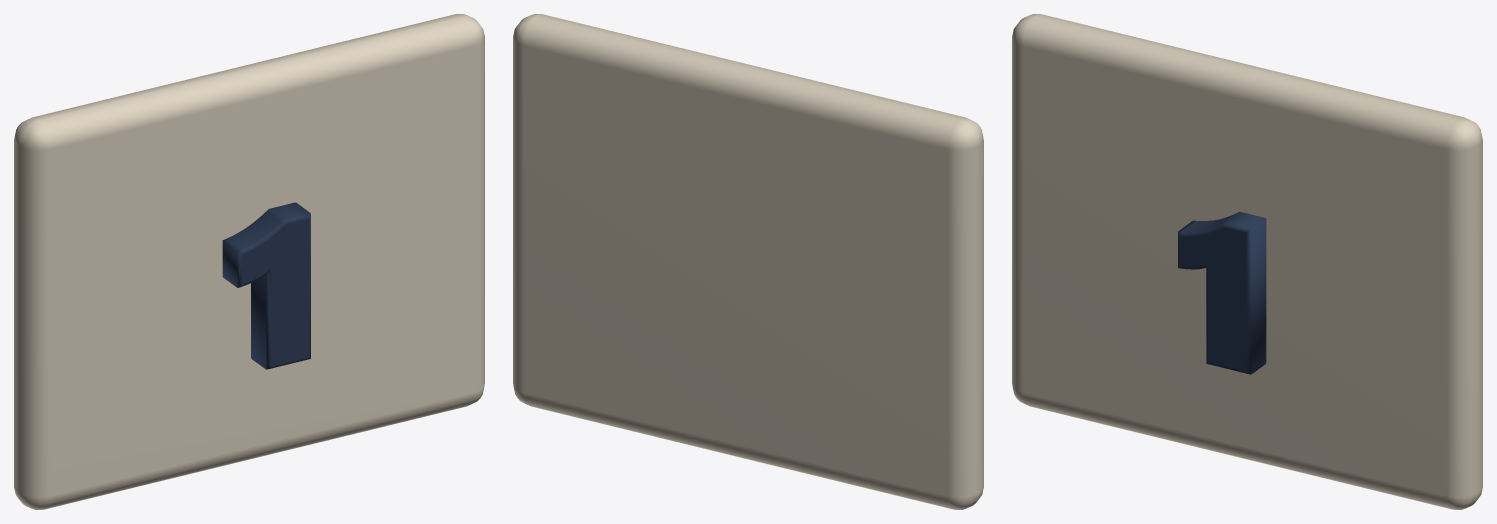
The model's file is BufferTag1.fbx.
The picture shows the model from 3 angles, left to right: view 1: azimuth 30°, elevation 25°; view 2: azimuth 150°, elevation 25°; view 3: azimuth 330°, elevation 25°; orthographic projection.
Parts seen in each view (by area): view 1: BufferTag1 mesh; view 2: BufferTag1 mesh; view 3: BufferTag1 mesh.
Part boxes in pixels (left/top/right/bottom): BufferTag1 mesh: left=14, top=14, right=484, bottom=509; BufferTag1 mesh: left=513, top=14, right=983, bottom=509; BufferTag1 mesh: left=1012, top=14, right=1482, bottom=509.
Bounding box in the file's own units: 0.15 × 0.12 × 0.024.
